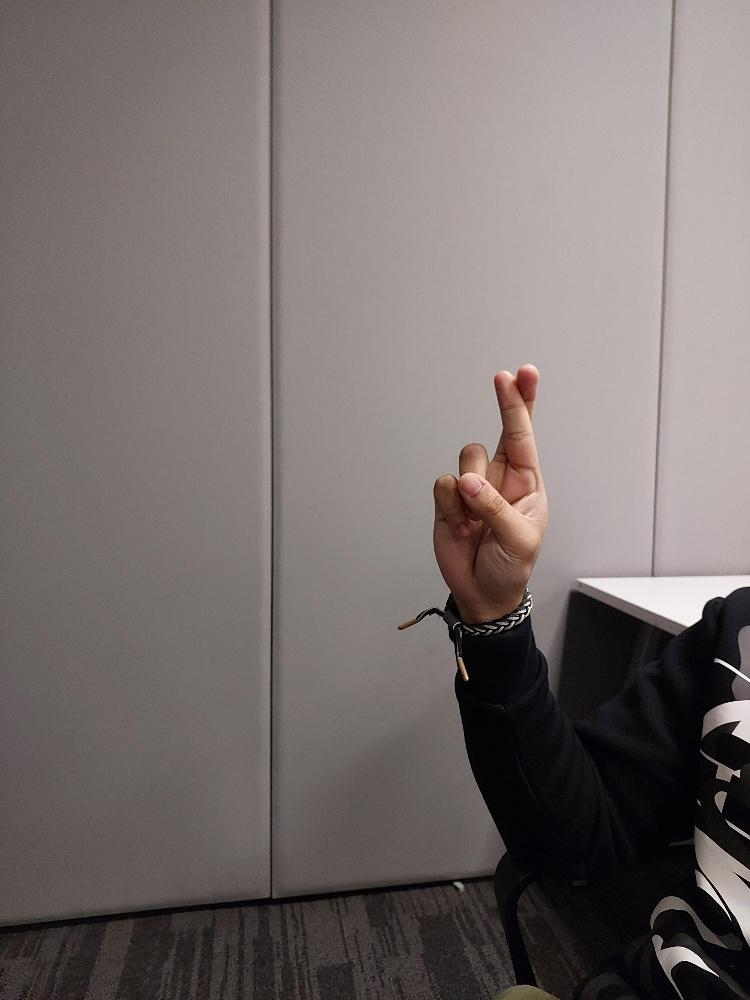r: (432, 362, 547, 603)
